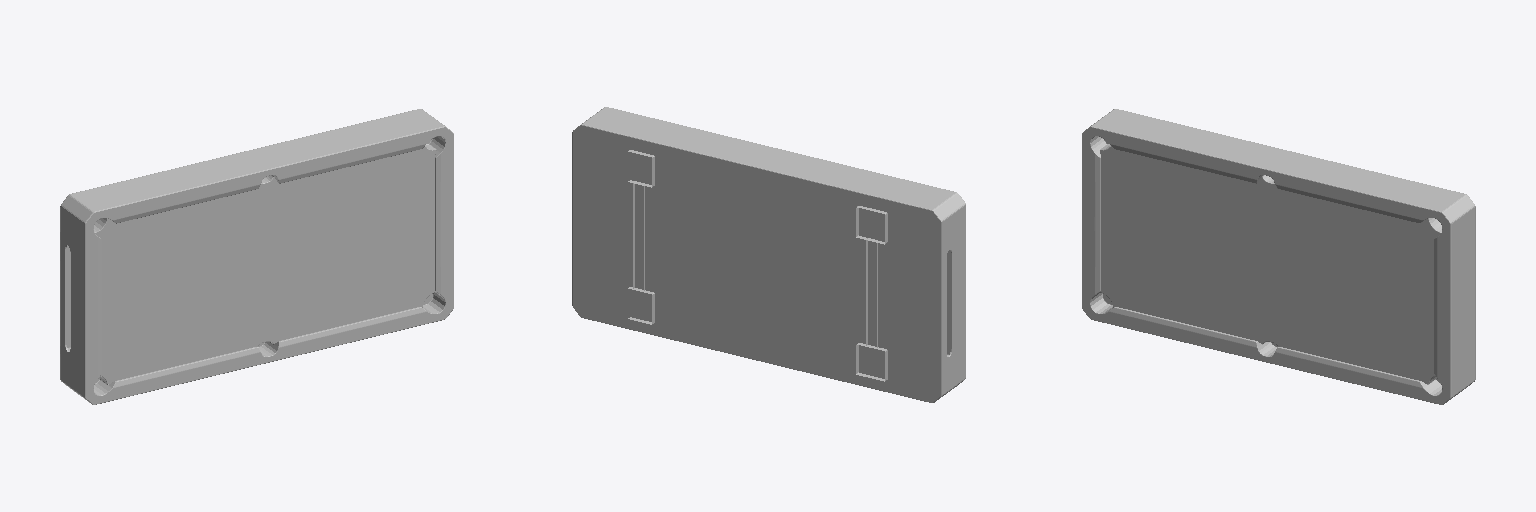
File: mesa3.obj
3 views of the same model, side by side, from view 1: azimuth 30°, elevation 25°; view 2: azimuth 150°, elevation 25°; view 3: azimuth 330°, elevation 25° (orthographic).
Parts seen in each view (by area): view 1: Pool_10523_Pool_Table_v1_L3; view 2: Pool_10523_Pool_Table_v1_L3; view 3: Pool_10523_Pool_Table_v1_L3.
Boxes of the visible parts, x1,y1,x2,y2 form: Pool_10523_Pool_Table_v1_L3: [60, 109, 453, 404]; Pool_10523_Pool_Table_v1_L3: [572, 107, 965, 402]; Pool_10523_Pool_Table_v1_L3: [1082, 109, 1475, 404].
Bounding box in the file's own units: 254 × 127 × 32.77.